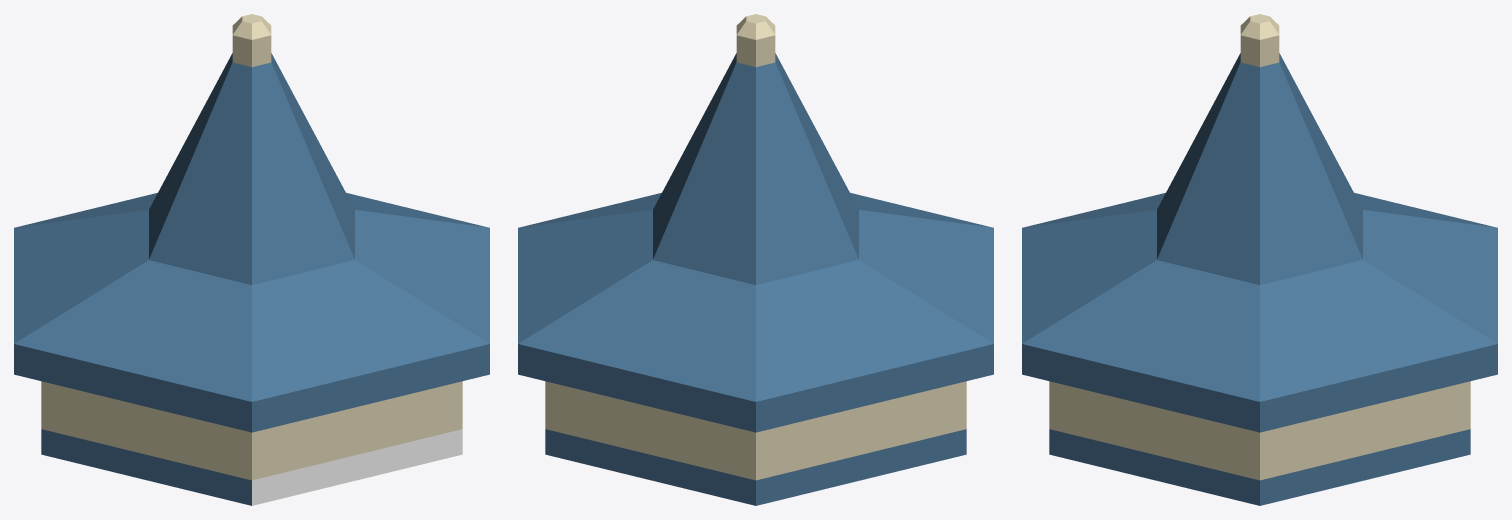
Rendered from towerHexagonRoof_exclusive 1.fbx.
3 renders of one model, left to right at view 1: azimuth 30°, elevation 25°; view 2: azimuth 150°, elevation 25°; view 3: azimuth 270°, elevation 25°, orthographic.
Visible parts, largest first — view 1: towerHexagonRoof_exclusive 1; view 2: towerHexagonRoof_exclusive 1; view 3: towerHexagonRoof_exclusive 1.
Part boxes in pixels (box(x1,y1,x2,y2)): towerHexagonRoof_exclusive 1: box(14, 14, 489, 505); towerHexagonRoof_exclusive 1: box(518, 14, 993, 505); towerHexagonRoof_exclusive 1: box(1022, 14, 1497, 505).
Size of the model in its own units: 9.76 by 7.54 by 8.46.
